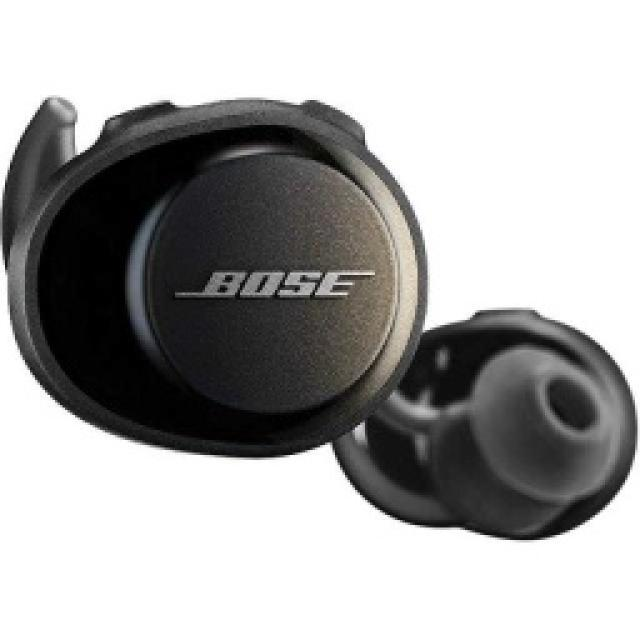headphones: (0, 90, 638, 540)
